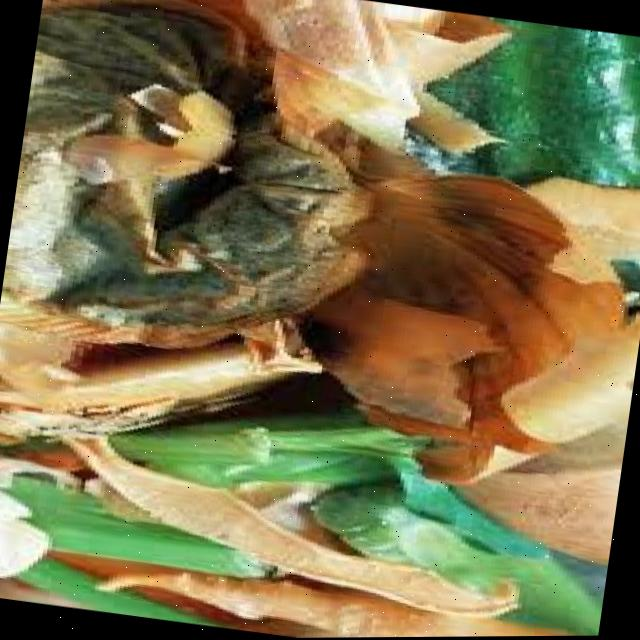Wet: (0, 0, 640, 640), (0, 0, 640, 526)
